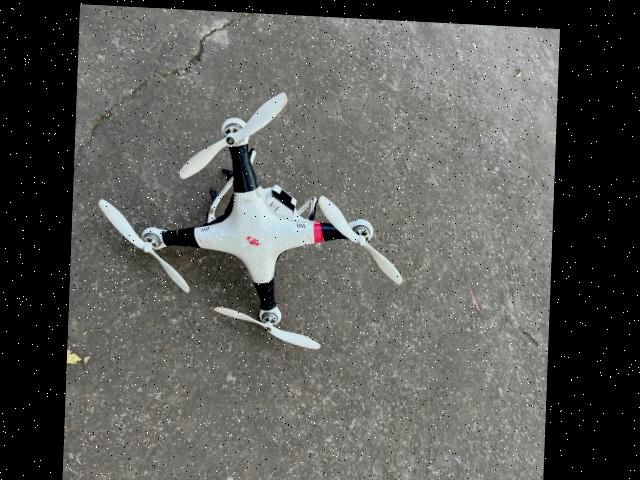drone: (89, 35, 424, 427)
